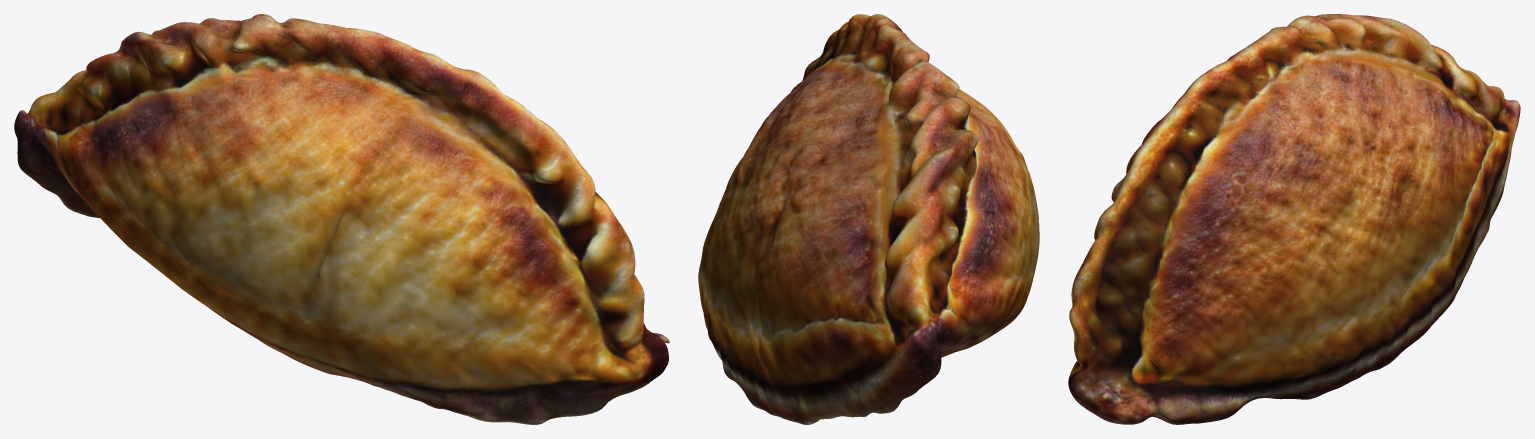
The model's file is 3dempanada.glb.
3 renders of one model, left to right at view 1: azimuth 30°, elevation 25°; view 2: azimuth 150°, elevation 25°; view 3: azimuth 270°, elevation 25°, orthographic. The views are drawn at different scales.
Parts seen in each view (by area): view 1: Object_4; view 2: Object_4; view 3: Object_4.
Part boxes in pixels (x1,y1,x2,y2): Object_4: (14, 14, 669, 424); Object_4: (698, 14, 1039, 424); Object_4: (1068, 14, 1520, 424).
Size of the model in its own units: 0.4052 by 0.3282 by 0.4387.
1 material, 1 textured.
